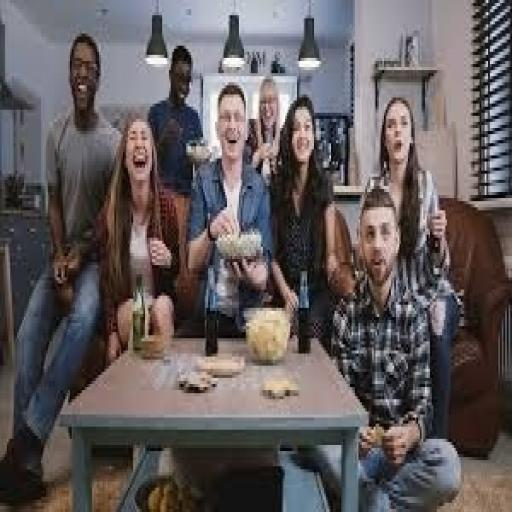sitting: (3, 27, 466, 503), (324, 183, 462, 509)
